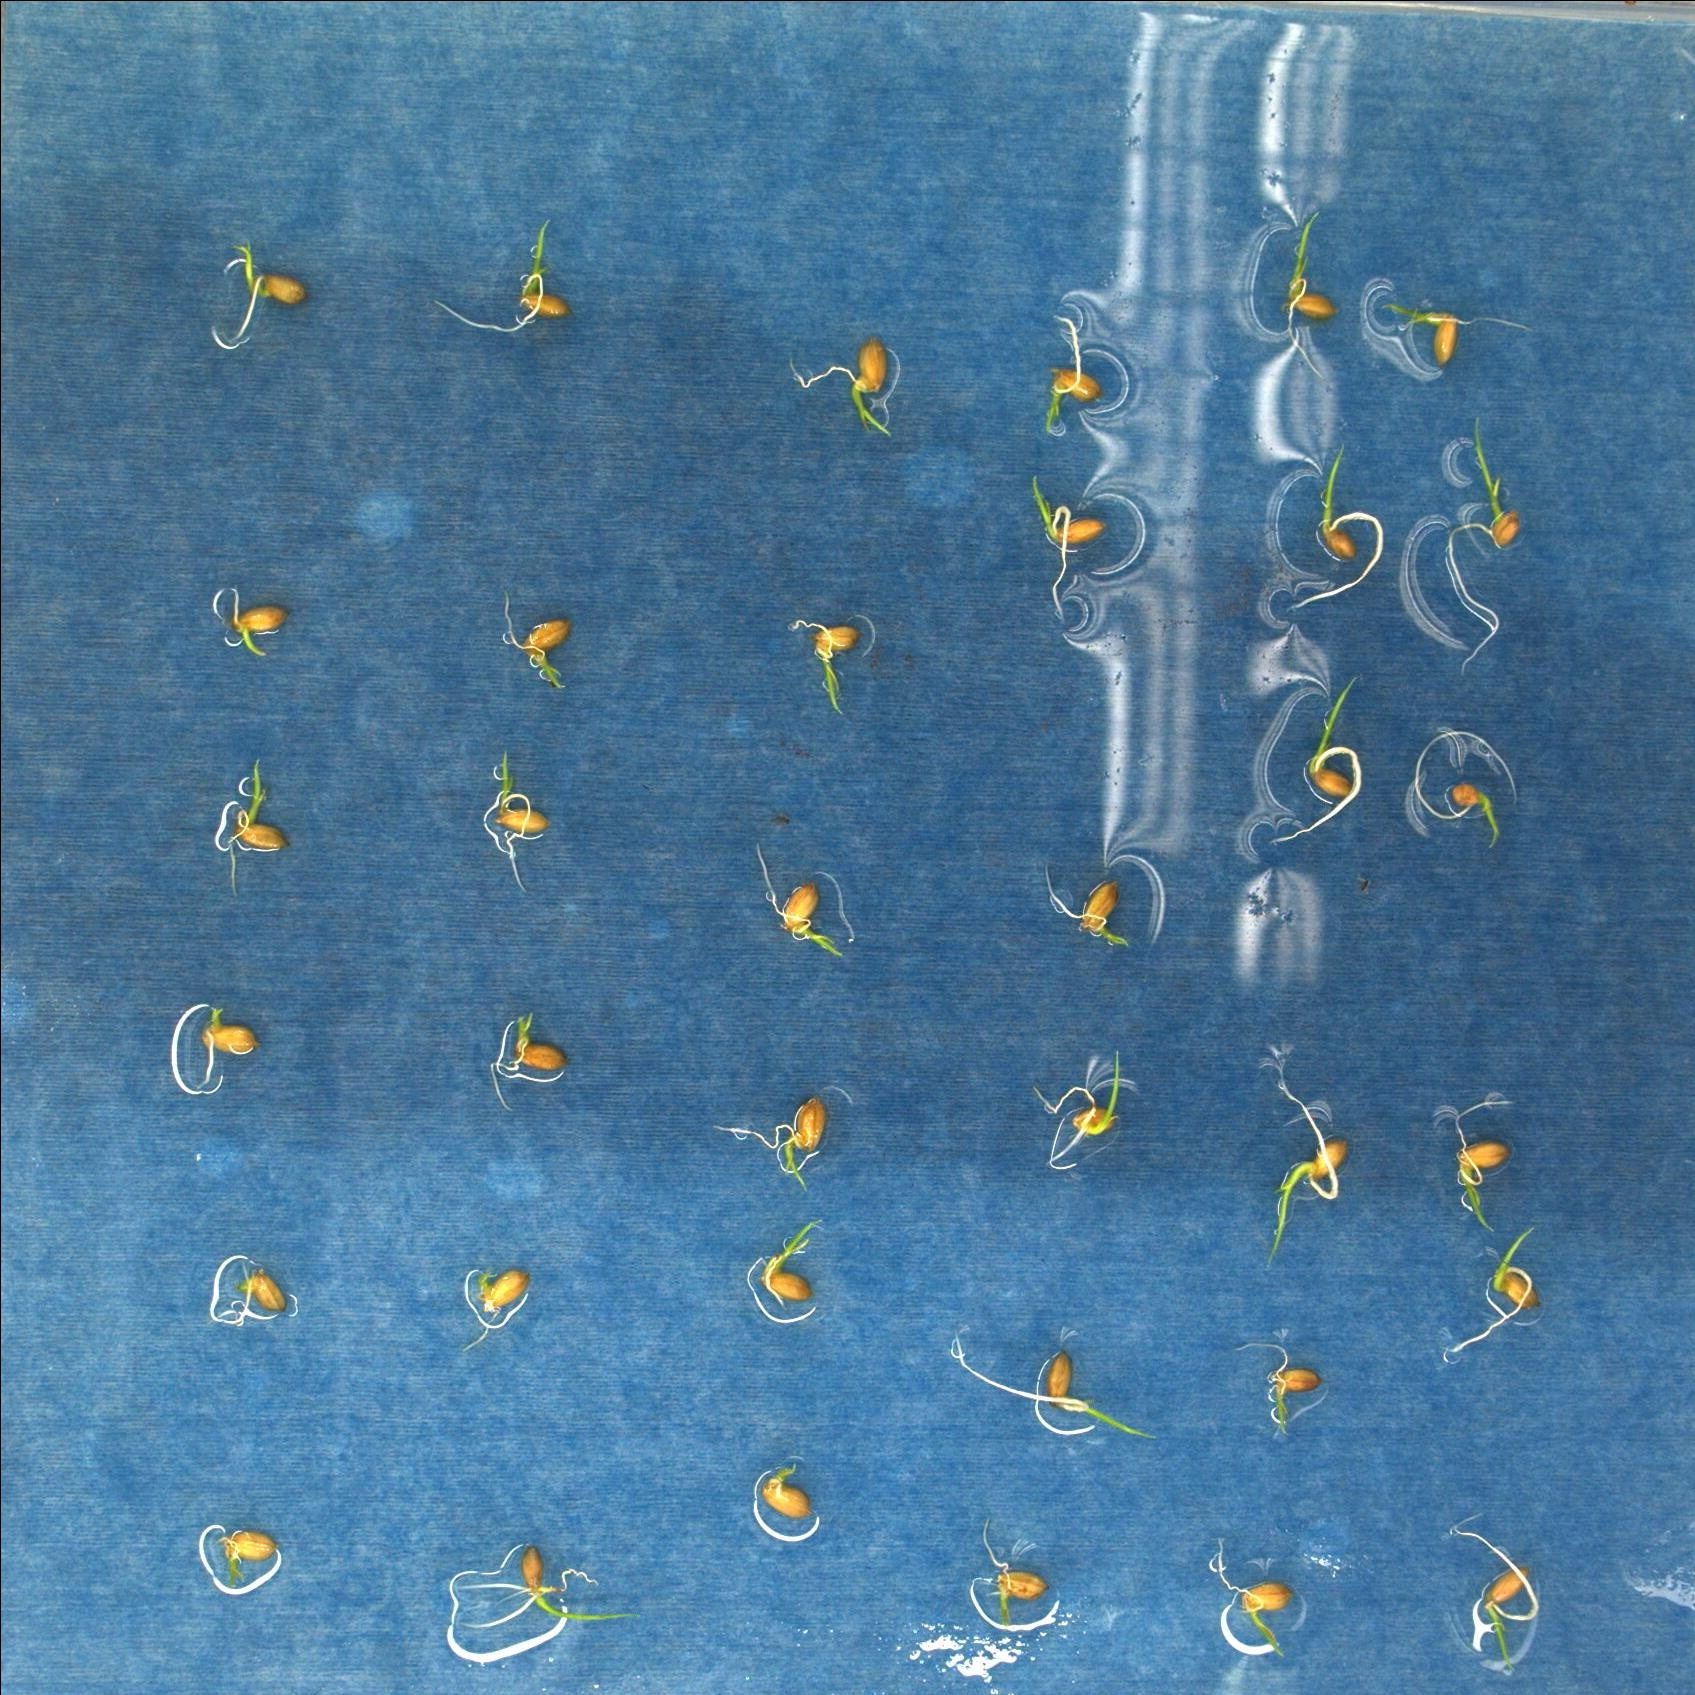not sprout: (217, 1262, 300, 1326), (203, 1527, 289, 1586), (199, 1000, 261, 1080), (759, 1458, 813, 1532)
sprout: (951, 1319, 1159, 1450), (1246, 1040, 1357, 1271), (1447, 414, 1523, 692), (461, 1538, 646, 1641), (1268, 674, 1366, 854), (430, 219, 571, 343), (1288, 449, 1391, 615), (1442, 1520, 1541, 1679), (1437, 1218, 1541, 1369), (1414, 722, 1521, 855), (206, 231, 310, 365), (747, 837, 851, 965), (1023, 1046, 1135, 1166), (1026, 469, 1107, 618), (787, 334, 900, 439), (712, 1093, 827, 1194), (1450, 1088, 1523, 1242), (1211, 1530, 1298, 1659), (1037, 846, 1133, 955), (1385, 298, 1527, 369), (484, 740, 549, 896), (220, 751, 287, 896), (1281, 213, 1340, 376), (1236, 1333, 1326, 1437), (975, 1510, 1049, 1631), (487, 1003, 568, 1110), (1038, 307, 1104, 436), (500, 584, 571, 700), (787, 608, 857, 719), (759, 1220, 830, 1315), (210, 579, 282, 660), (464, 1250, 532, 1326)
